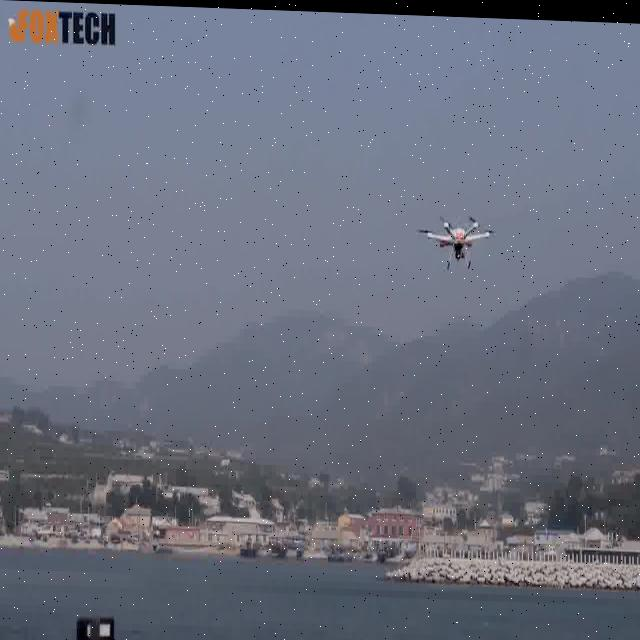drone: (419, 202, 497, 283)
